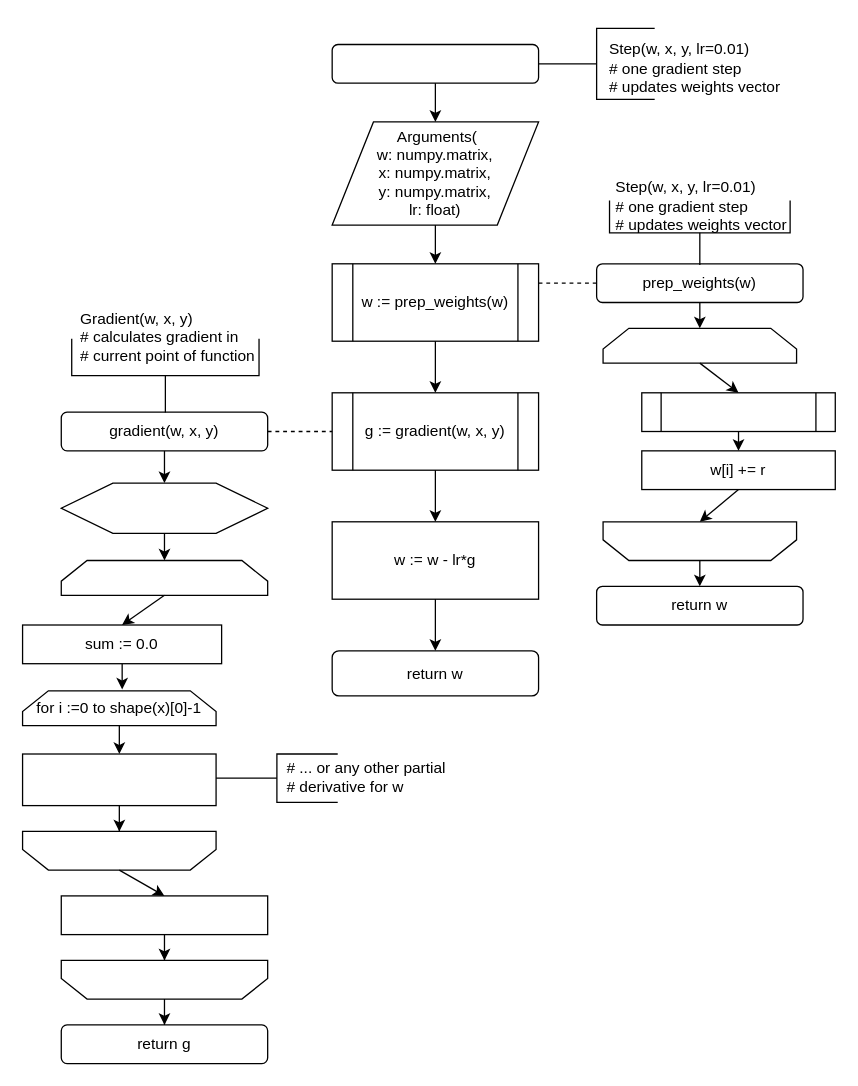
This 858x1086 diagram has some shape labels left out. Each missing label, with the centre of its shape:
"for i := 0 to len(w)-1" belongs at [699,345].
"for j :=0 to len(w)-1" belongs at [164,577].
"g := [..,..,]: shape(w)" belongs at [164,507].
"g[i] := sum" belongs at [164,915].
"r := normal_random()" belongs at [737,412].
"Step(w, x, y, lr=0.01)" belongs at [435,63].
"sum := sum + 2 * x[i, j] sum := sum * (x[i] * w - y[i])" belongs at [118,779].
